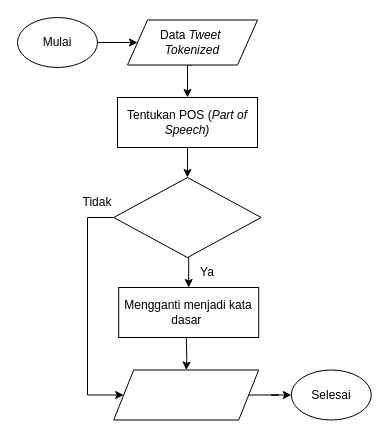
Image size: 389x446. Some labels were removed from this diagram. Here are the shapes that lost their labels. From the top down, the box of each, then its label:
(113, 176, 261, 258): Apakah ada Lemma di data?
(113, 369, 259, 420): Simpan Hasil Lemmatization
